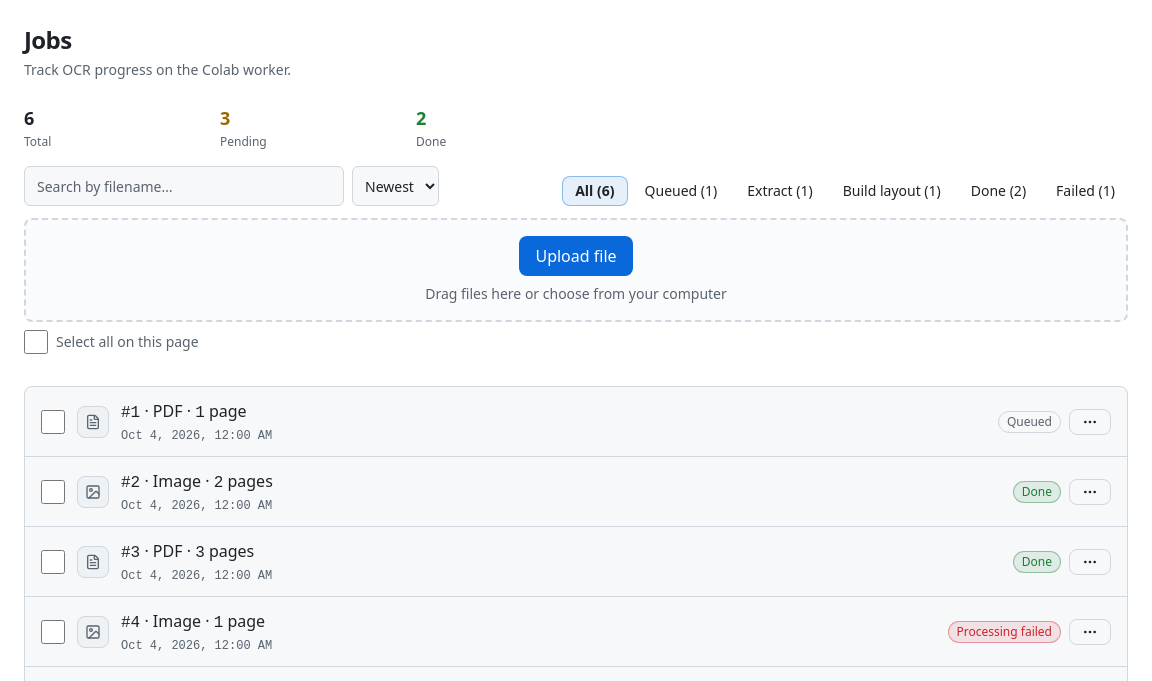
it: filter tabs show counts and click filters rows
The width and height of the screenshot is (1152, 681).
Expected: the list item with test id "job-row-4" is shown, [25,597,1127,667]
Expected: the button with test id "filter-all" reads "All (6)", [562,176,628,206]
Note: New phase tabs filter to their own rows.
Click the button with test id "filter-extracting": (780, 191) [734,176,826,206]
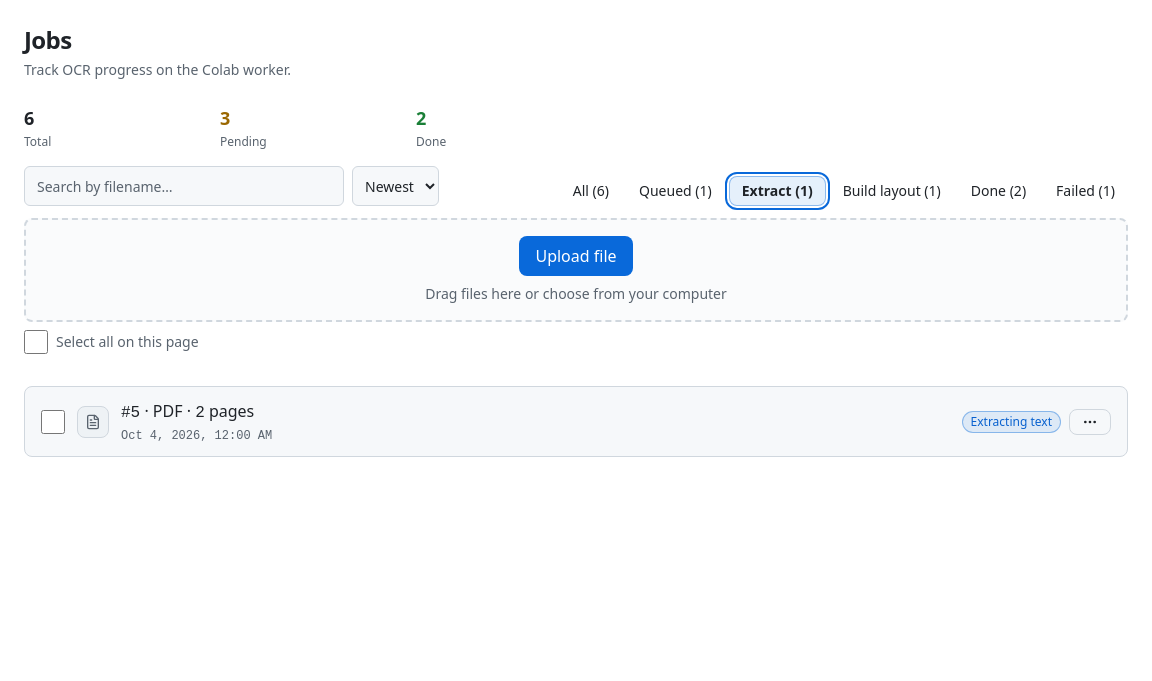
Expected: the list item with test id "job-row-5" is shown, [25,387,1127,456]
Result: the list item with test id "job-row-1" is gone
Click the button with test id "filter-done": (998, 191) [958,176,1039,206]
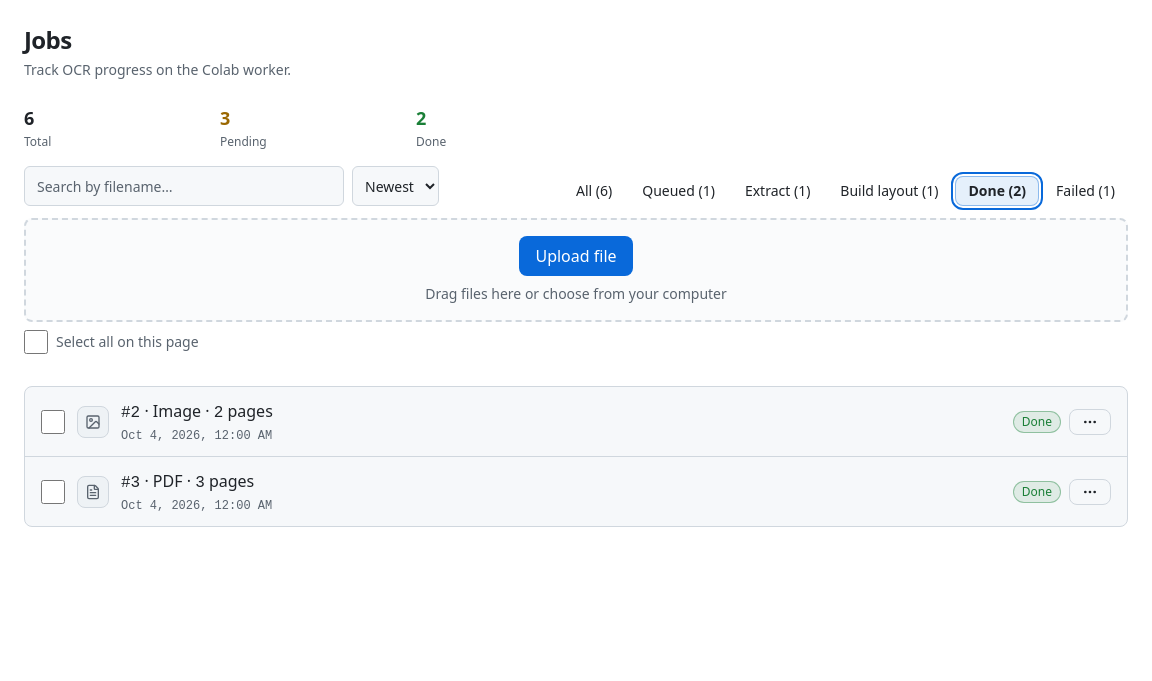
Result: the list item with test id "job-row-2" is shown at [25,387,1127,457]
Result: the list item with test id "job-row-3" is shown at [25,457,1127,526]
Click the button with test id "filter-failed": (1086, 191) [1043,176,1128,206]
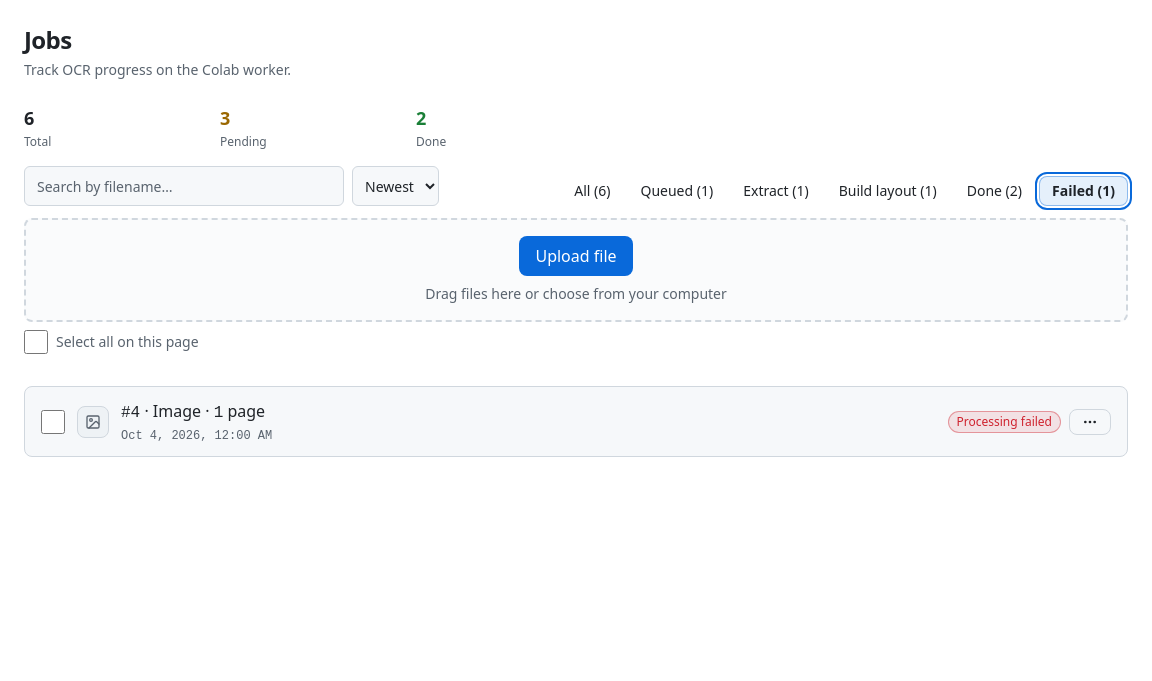
Result: the list item with test id "job-row-2" is gone
Result: the list item with test id "job-row-4" is shown at [25,387,1127,456]
